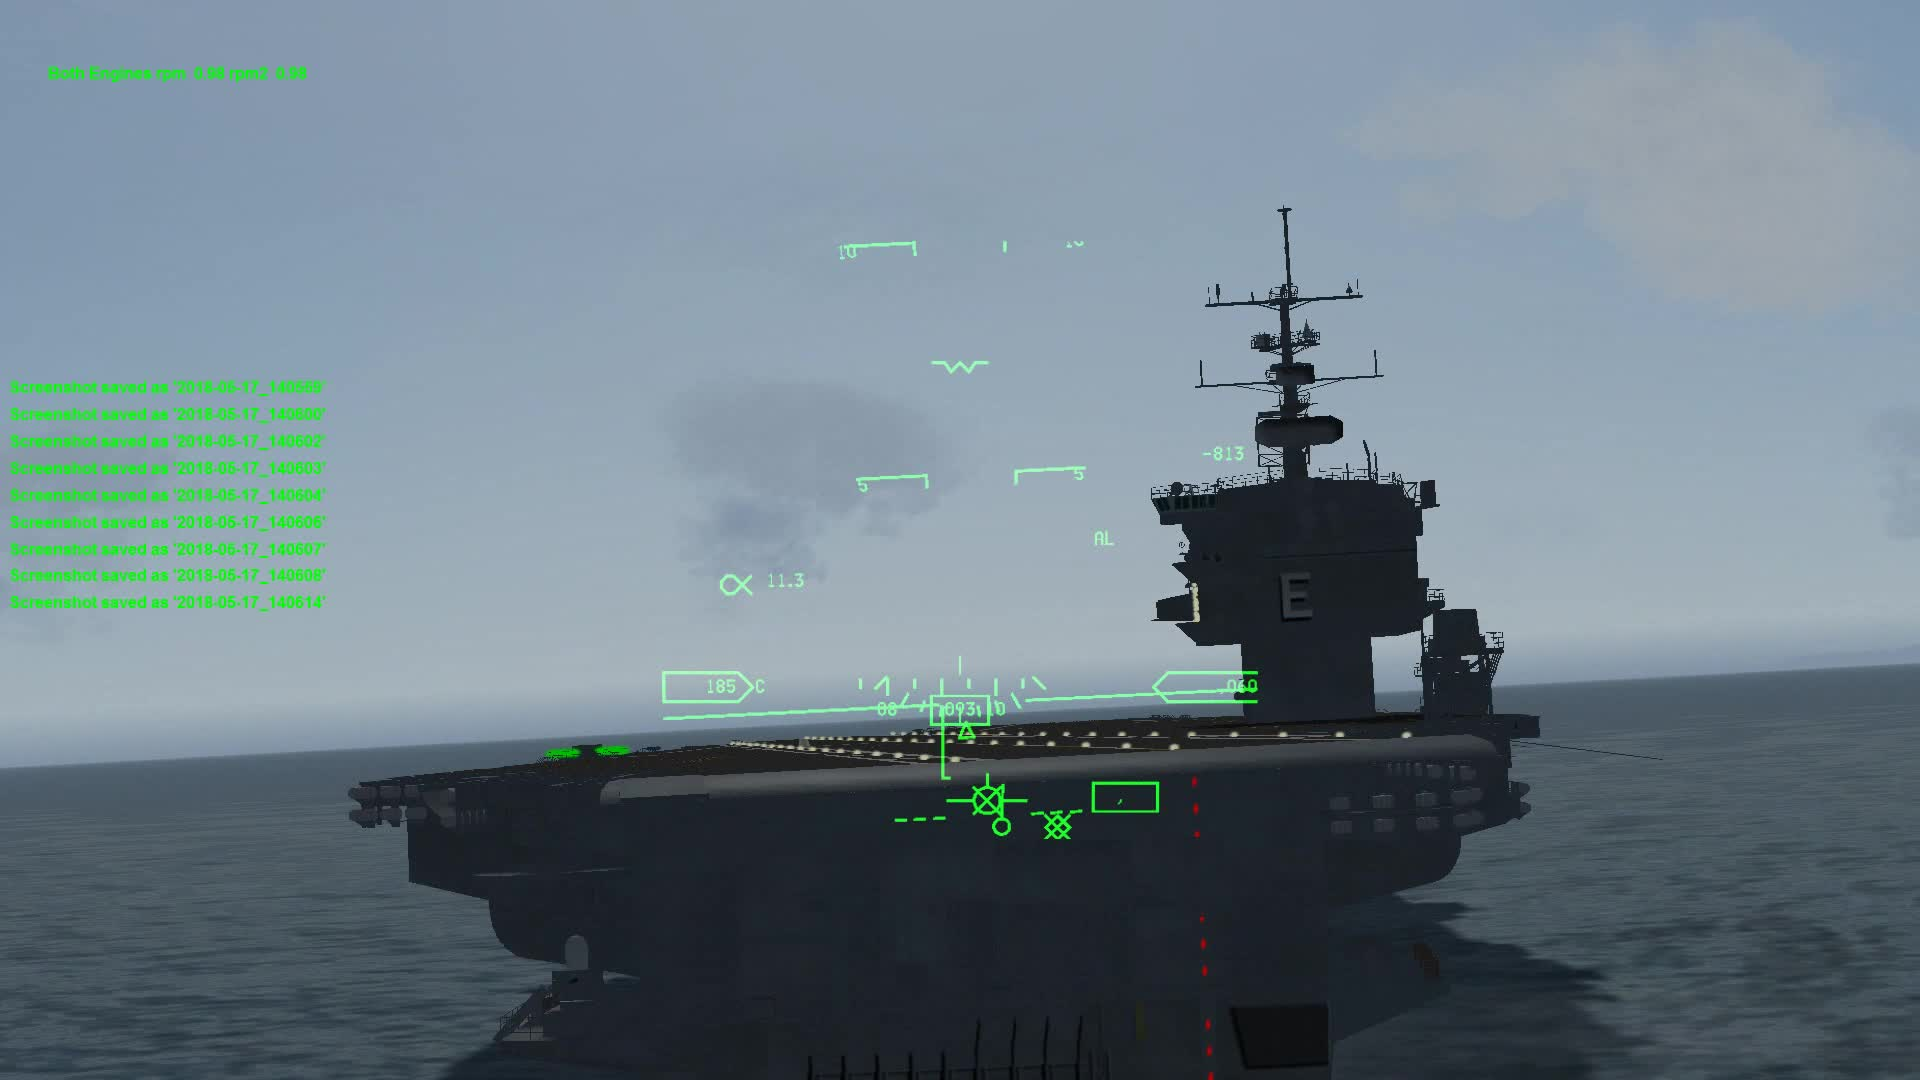speed vector: (945, 779, 1015, 818)
